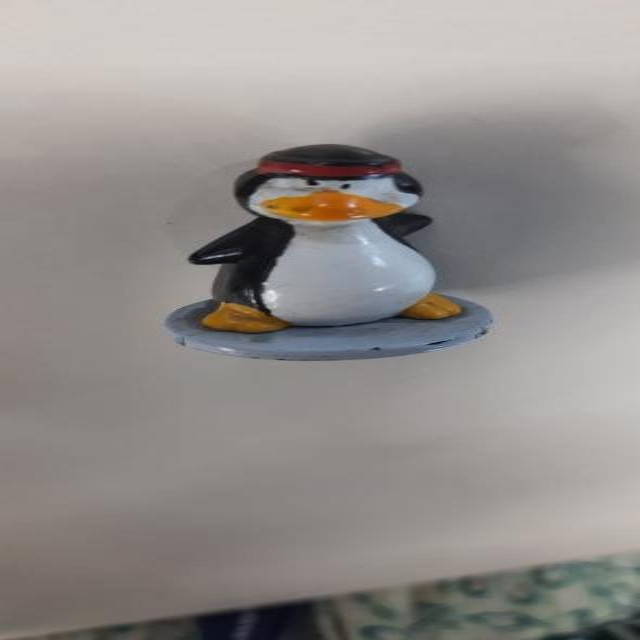Penguin: (139, 122, 516, 394)
